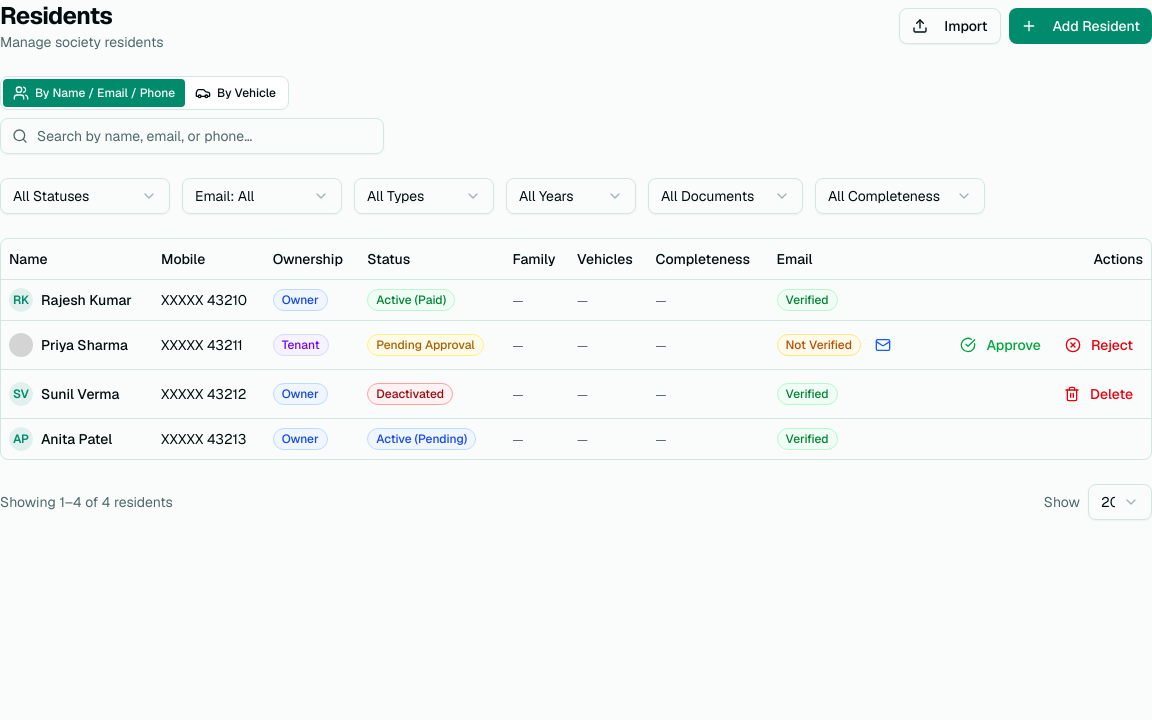
Test case: AdminResidentsPage › closes reject dialog on cancel
This screenshot has width=1152, height=720.
Click the button "Reject": (1099, 344) x1=1055 y1=328 x2=1143 y2=360
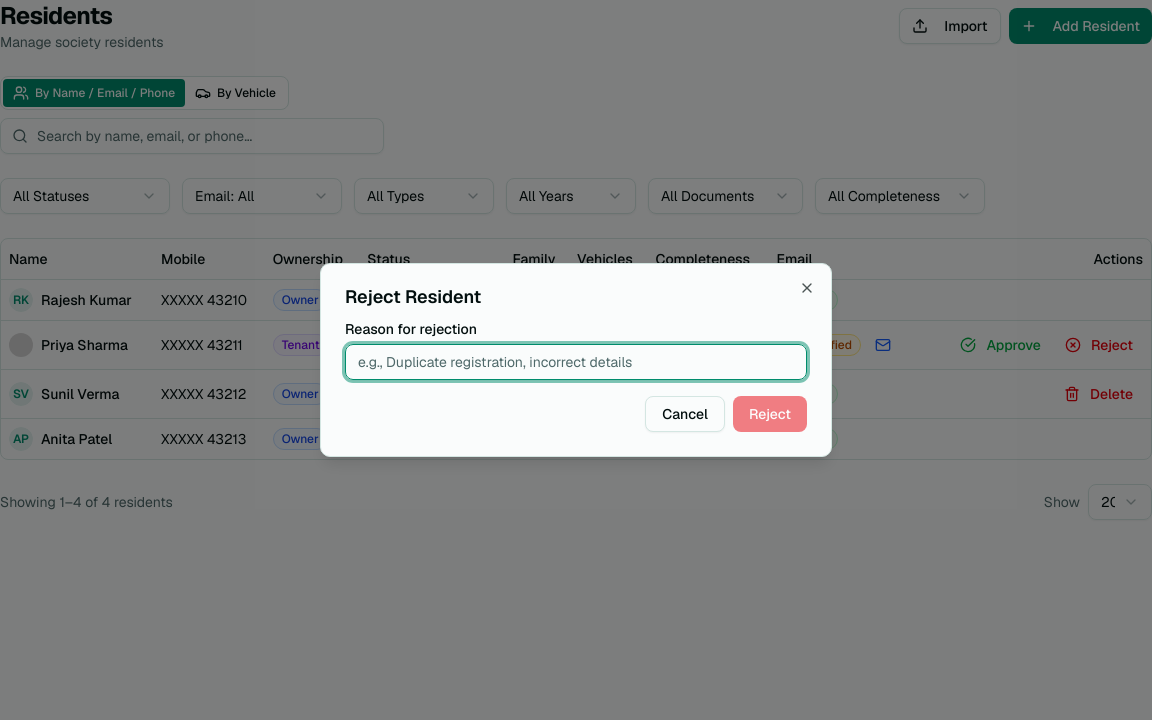
Expected: the heading "Reject Resident" is shown, x1=345 y1=285 x2=481 y2=308
Click the button "Cancel": (685, 414) x1=645 y1=396 x2=725 y2=432
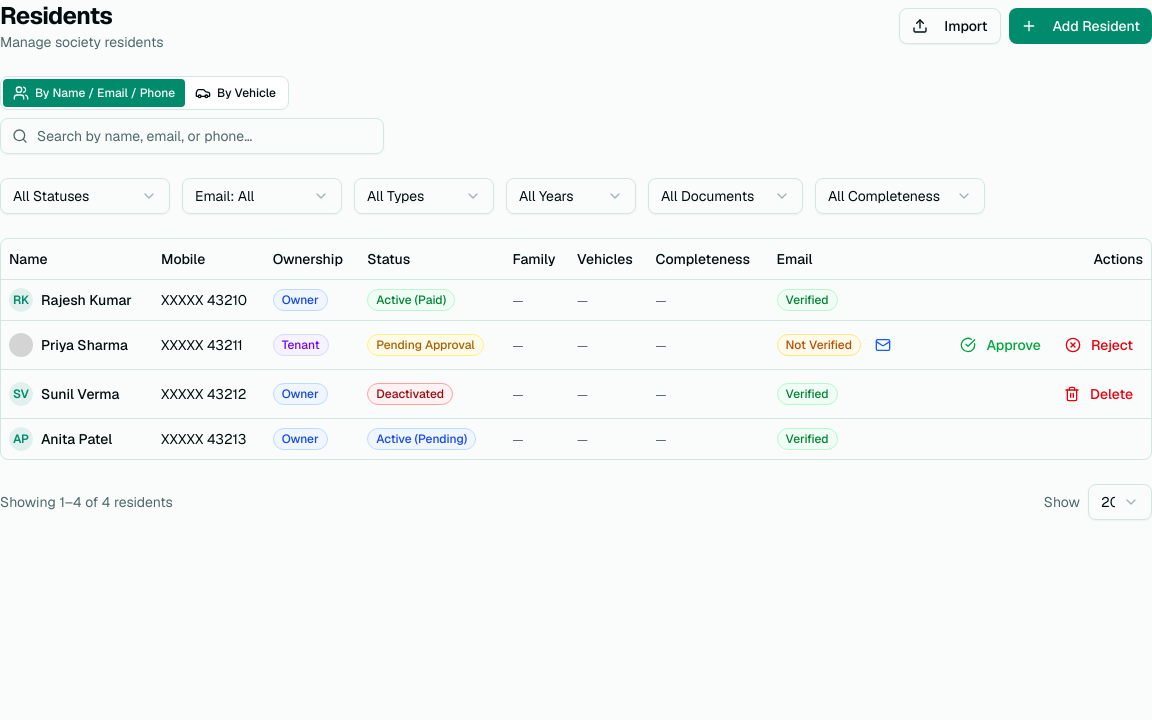
Expected: the heading "Reject Resident" is gone
